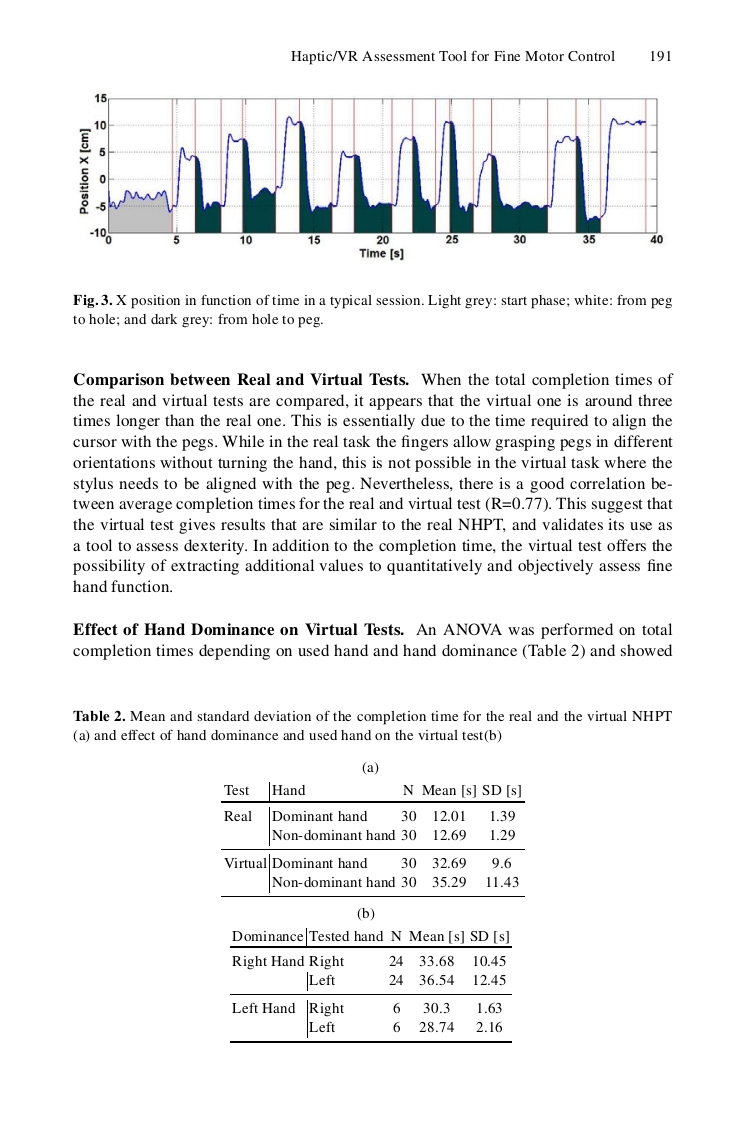Table: (221, 782, 524, 896), (230, 928, 511, 1042)
figure: (79, 92, 662, 261)
